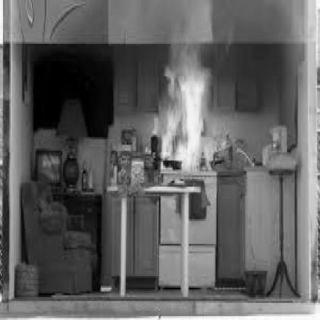Fire: (142, 14, 220, 172)
